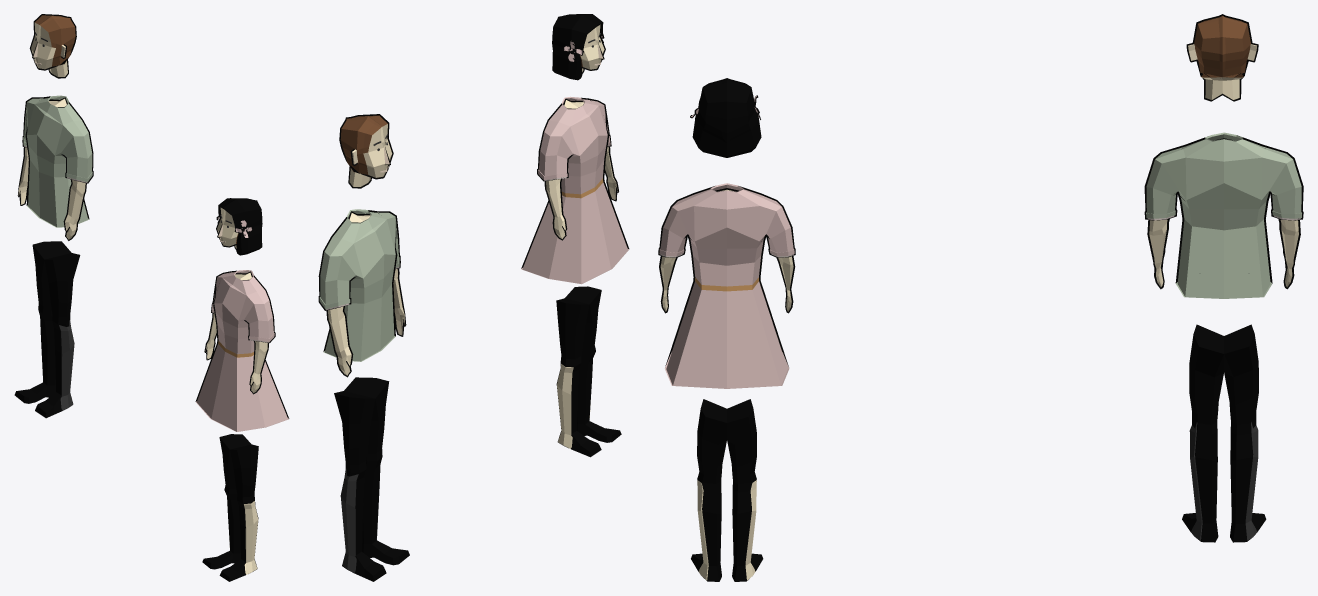
The model's file is male and female doll.fbx.
3 renders of one model, left to right at view 1: azimuth 30°, elevation 25°; view 2: azimuth 150°, elevation 25°; view 3: azimuth 270°, elevation 25°, orthographic. The views are drawn at different scales.
Parts seen in each view (by area): view 1: dress.001, dress.002, body.004, body.006, body.003, hair.001, body.002, body.001, body.005; view 2: dress.001, dress.002, body.004, body.006, body.003, hair.001, body.002, body.001, body.005; view 3: dress.001, dress.002, body.004, body.006, hair.001, body.003, body.002, body.001.
Boxes of the visible parts, x1,y1,x2,y2 form: dress.001: (195,270,289,431); dress.002: (22,95,93,227); body.004: (14,241,80,418); body.006: (202,434,258,581); body.003: (29,14,76,78); hair.001: (217,198,262,255); body.002: (17,97,86,240); body.001: (204,271,268,394); body.005: (216,207,238,249); dress.001: (521,96,629,284); dress.002: (318,209,400,361); body.004: (334,377,409,581); body.006: (556,286,621,457); body.003: (339,114,393,188); hair.001: (552,14,603,80); body.002: (326,211,406,377); body.001: (544,98,618,240); body.005: (580,24,605,73); dress.001: (658,183,795,388); dress.002: (1144,132,1303,298); body.004: (1182,324,1266,542); body.006: (691,399,763,581); hair.001: (692,78,761,157); body.003: (1186,14,1258,101); body.002: (1147,138,1300,289); body.001: (659,188,795,313).
Bounding box in the file's own units: 146 × 936 × 980.
